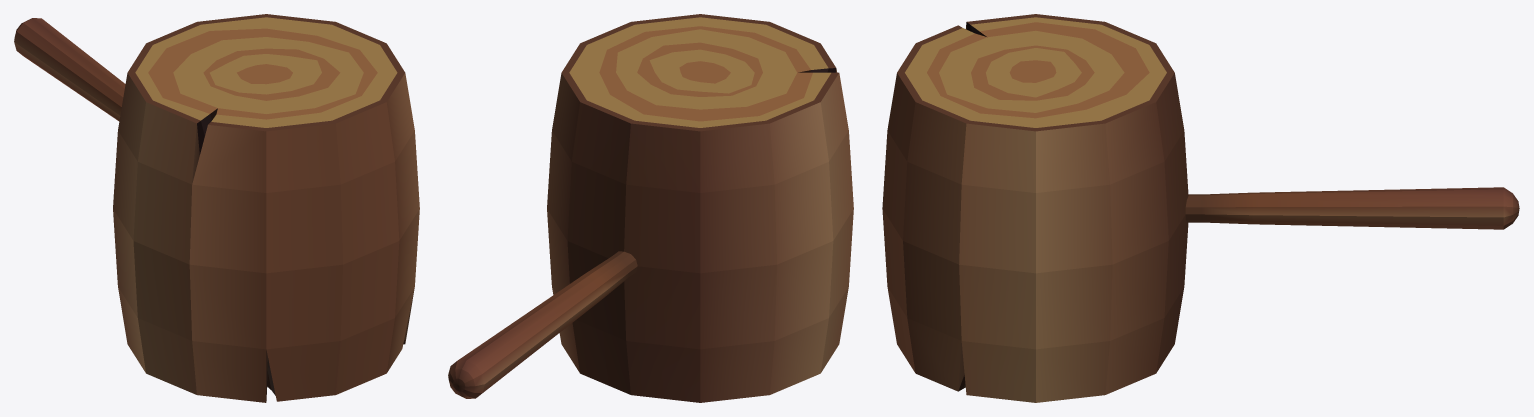
The model's file is HammerModel.glb.
3 views of the same model, side by side, from view 1: azimuth 30°, elevation 25°; view 2: azimuth 150°, elevation 25°; view 3: azimuth 270°, elevation 25° (orthographic).
Visible parts, largest first — view 1: mesh_woodenHamme; view 2: mesh_woodenHamme; view 3: mesh_woodenHamme.
Boxes of the visible parts, left/top/right/bottom form: mesh_woodenHamme: left=14, top=14, right=419, bottom=402; mesh_woodenHamme: left=448, top=14, right=853, bottom=402; mesh_woodenHamme: left=882, top=14, right=1519, bottom=402.
Size of the model in its own units: 0.2281 by 0.2226 by 0.4734.
